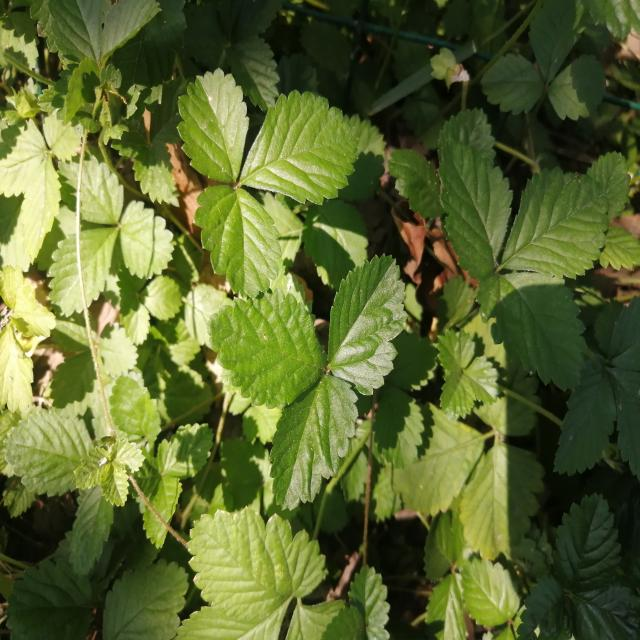Mock_strawberry: (211, 255, 424, 476), (434, 139, 609, 378), (172, 73, 361, 278)
